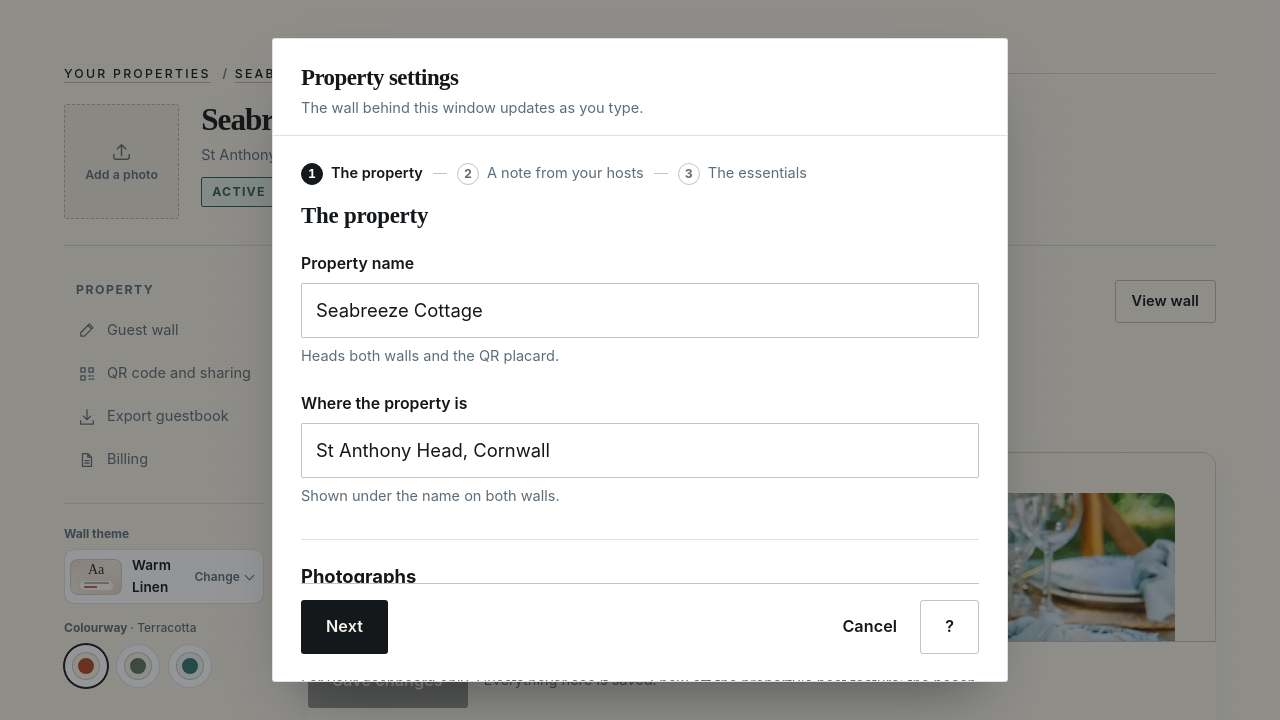
it: the settings of one property › renames the band overhead as the name is typed, before anything is saved
Type "The Barn" into the field labelled "Property name".
click(640, 311); type("The Barn")  # box x1=301 y1=283 x2=979 y2=338
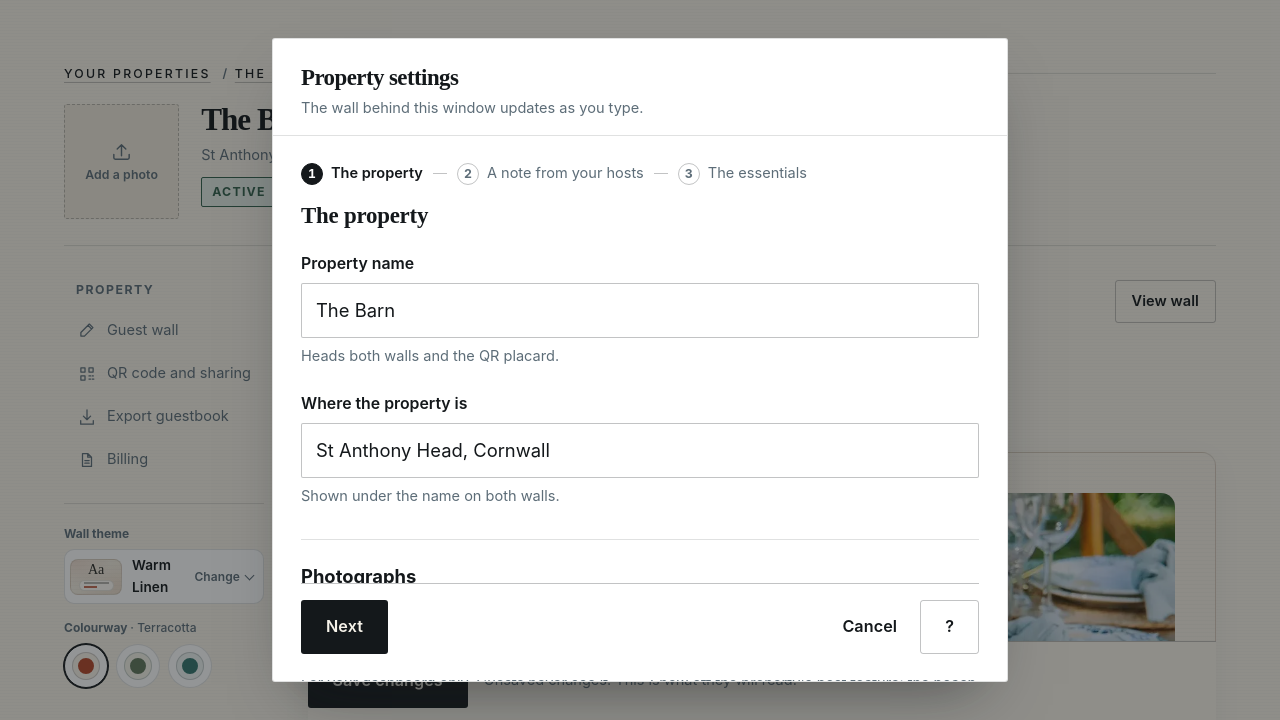
Result: the heading "The Barn" is shown at x1=201 y1=104 x2=321 y2=136
